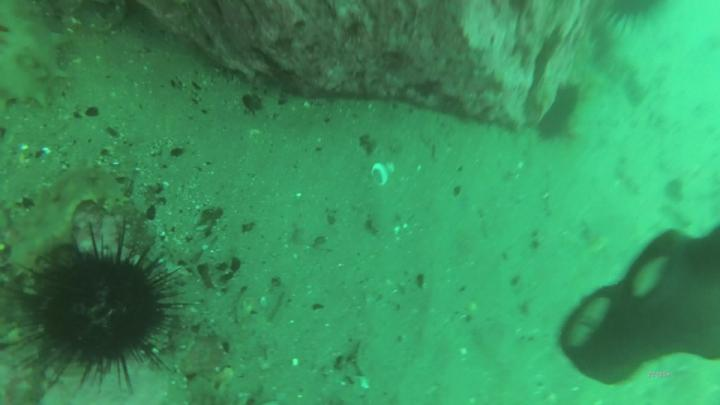echinus: (4, 219, 190, 396), (535, 84, 582, 146), (596, 1, 664, 34)
holothurian: (1, 165, 125, 275), (1, 1, 78, 112)
